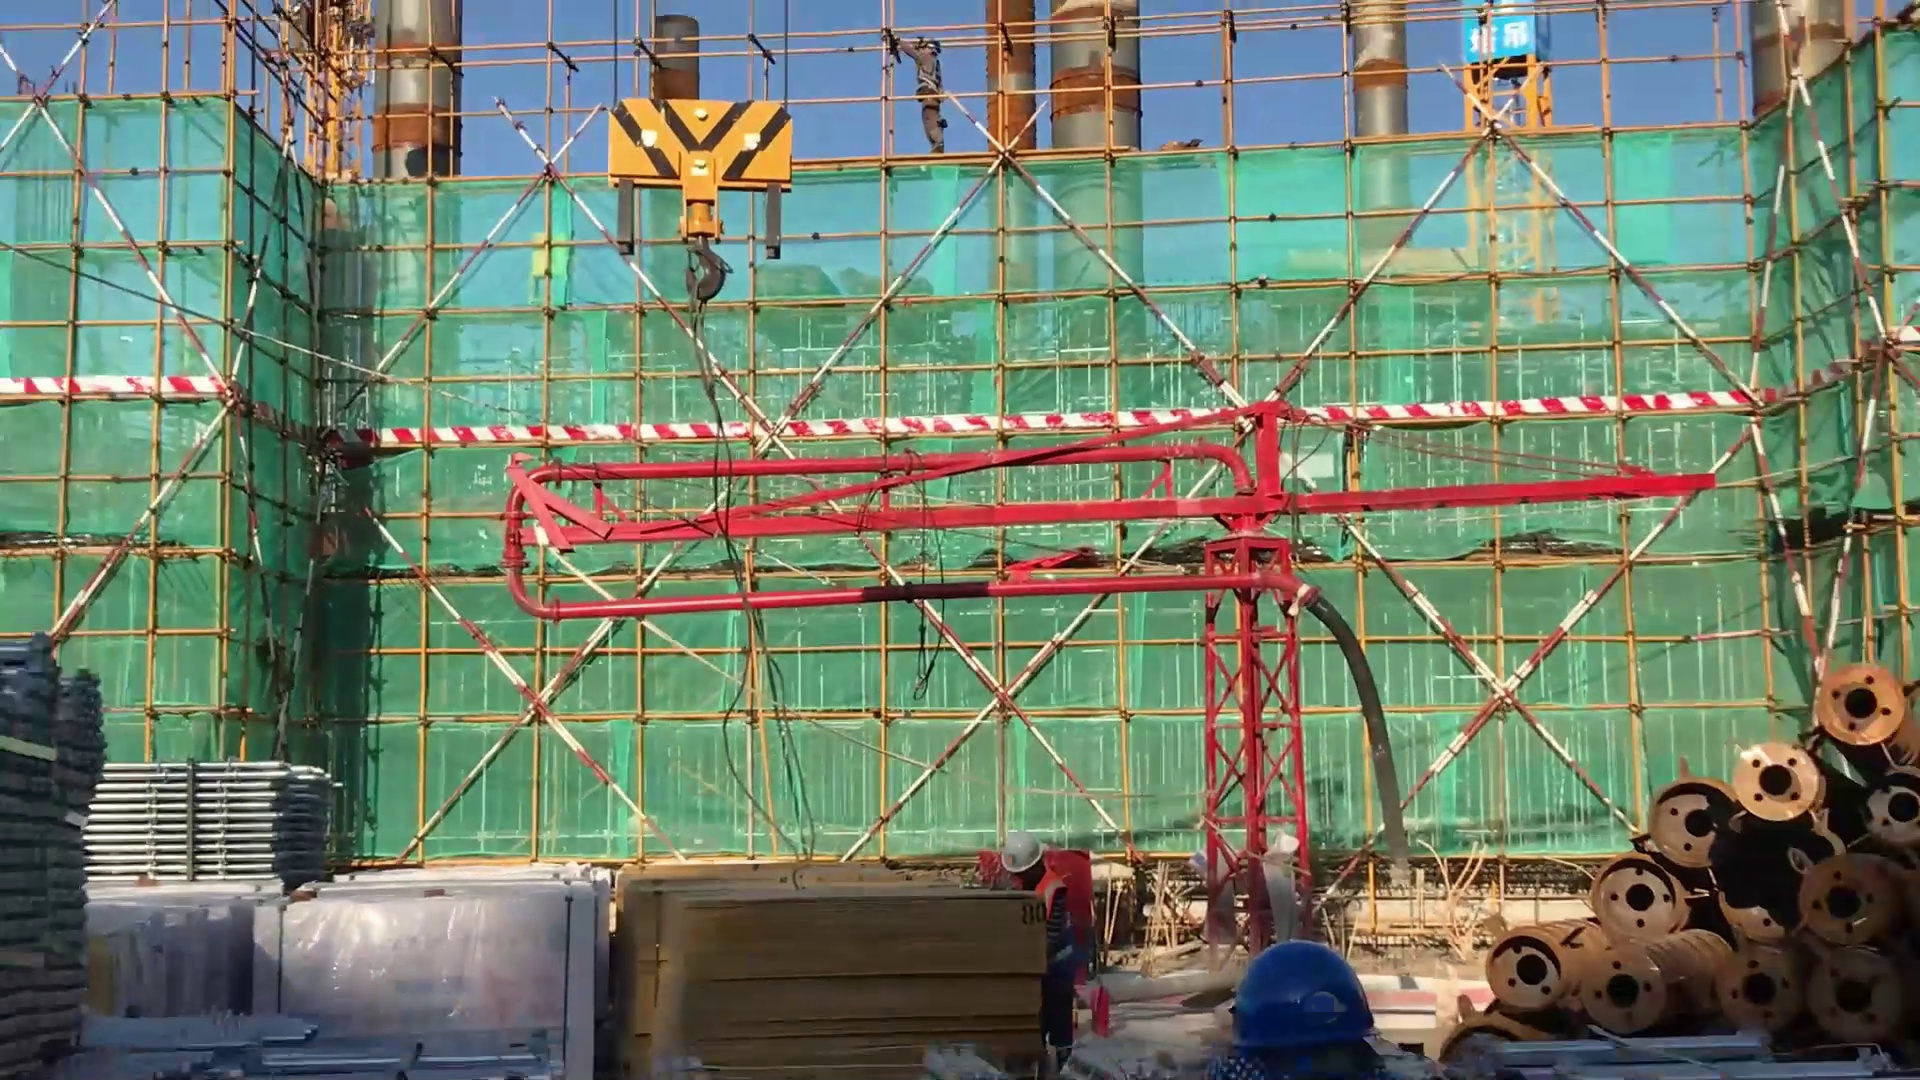board: (612, 869, 1048, 1072)
helmet: (1206, 934, 1401, 1043), (1001, 827, 1045, 877), (922, 36, 945, 61)
hook: (590, 101, 811, 317)
person: (994, 817, 1074, 1059), (873, 14, 958, 164)
scaffold: (1, 639, 112, 1039), (22, 1005, 568, 1080), (73, 751, 350, 891), (1466, 1039, 1916, 1080)
slogan: (1458, 1, 1544, 66)
vest: (1000, 865, 1070, 971)
